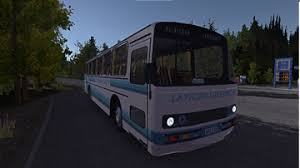bus: (84, 20, 240, 159)
